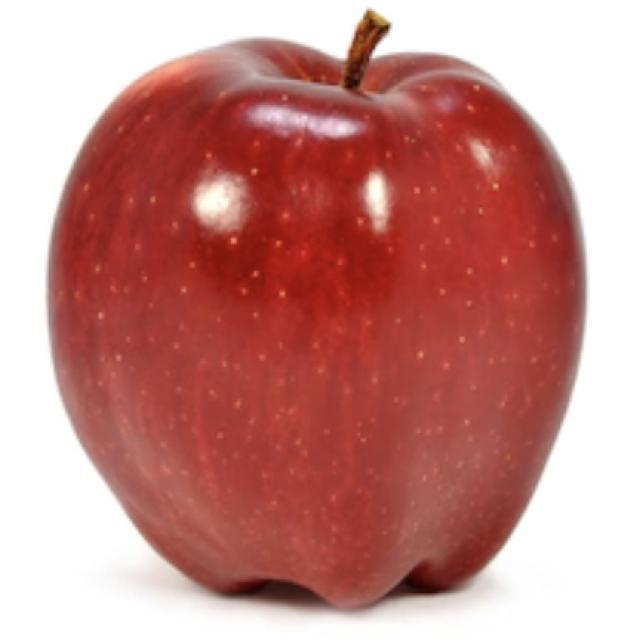Fresh Apple: (63, 36, 563, 640)
